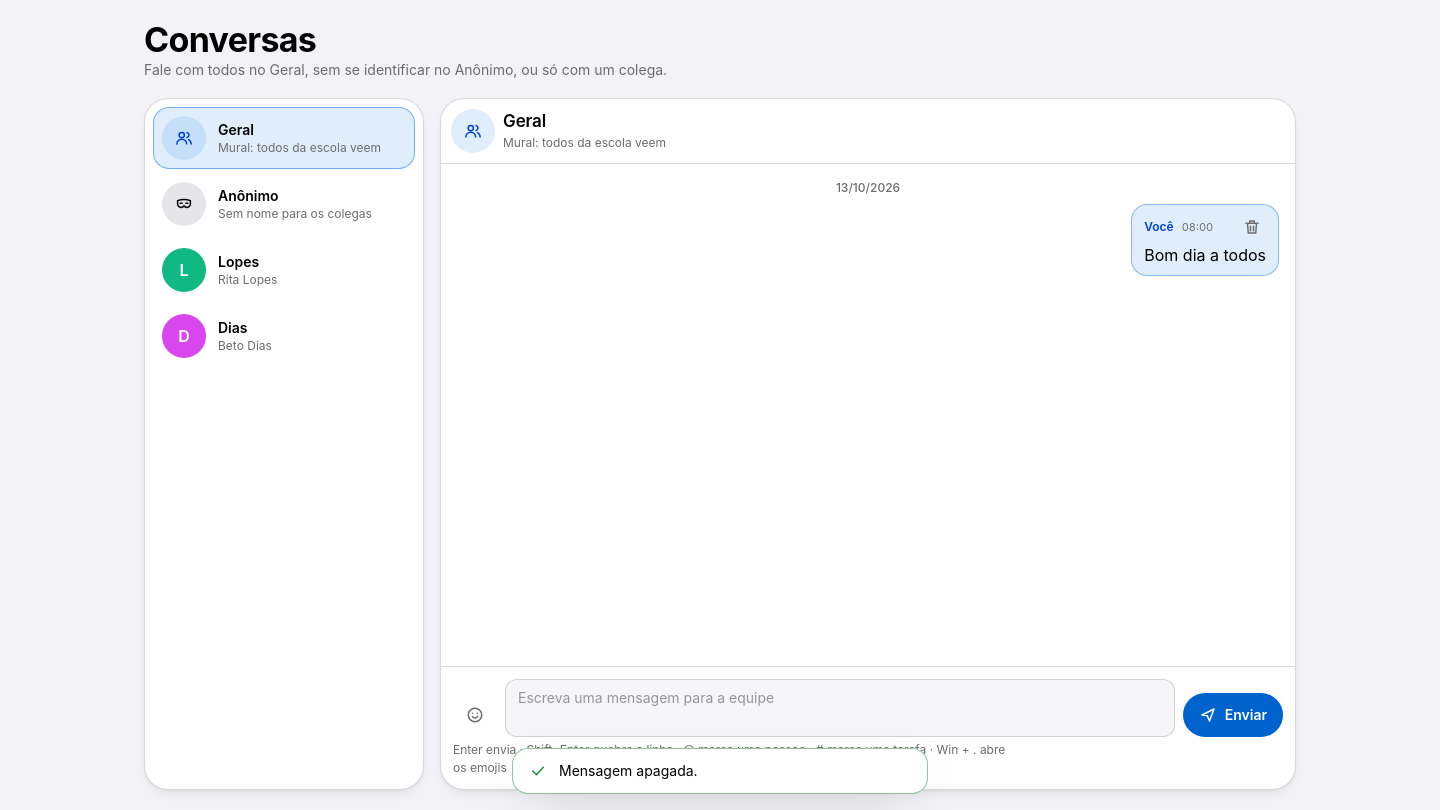
conversas: marcações, perfil e emojis (tela) › Esc fecha as sugestões sem apagar o texto
This screenshot has width=1440, height=810.
Expected: the navigation bar named "Conversas" is shown, [144,98,424,790]
Click the button "Anônimo Sem nome para os colegas" at [284, 204], box [153,173,415,235]
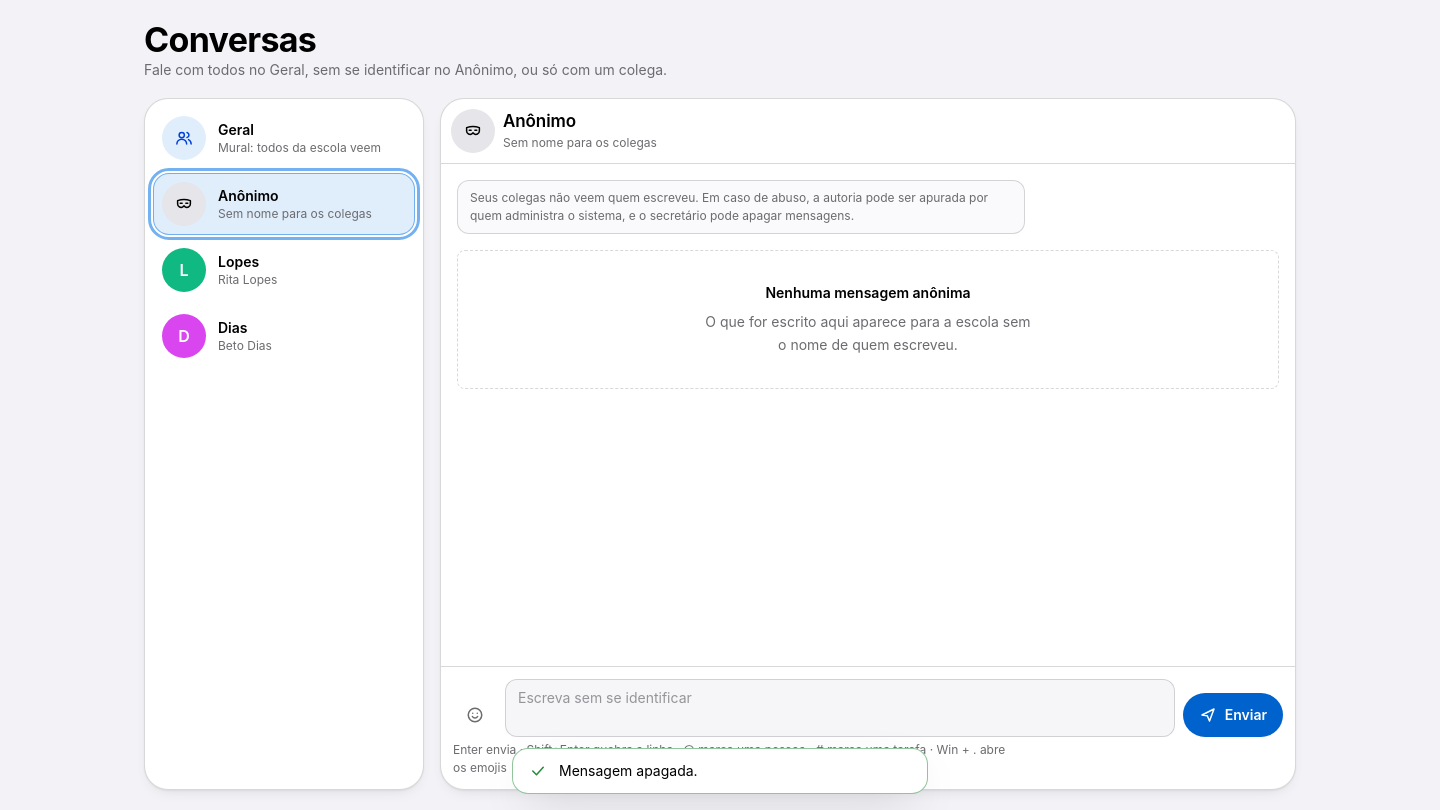
Type "@Di" into the text box named "Escrever mensagem" at [840, 708], box [505,679,1175,737]
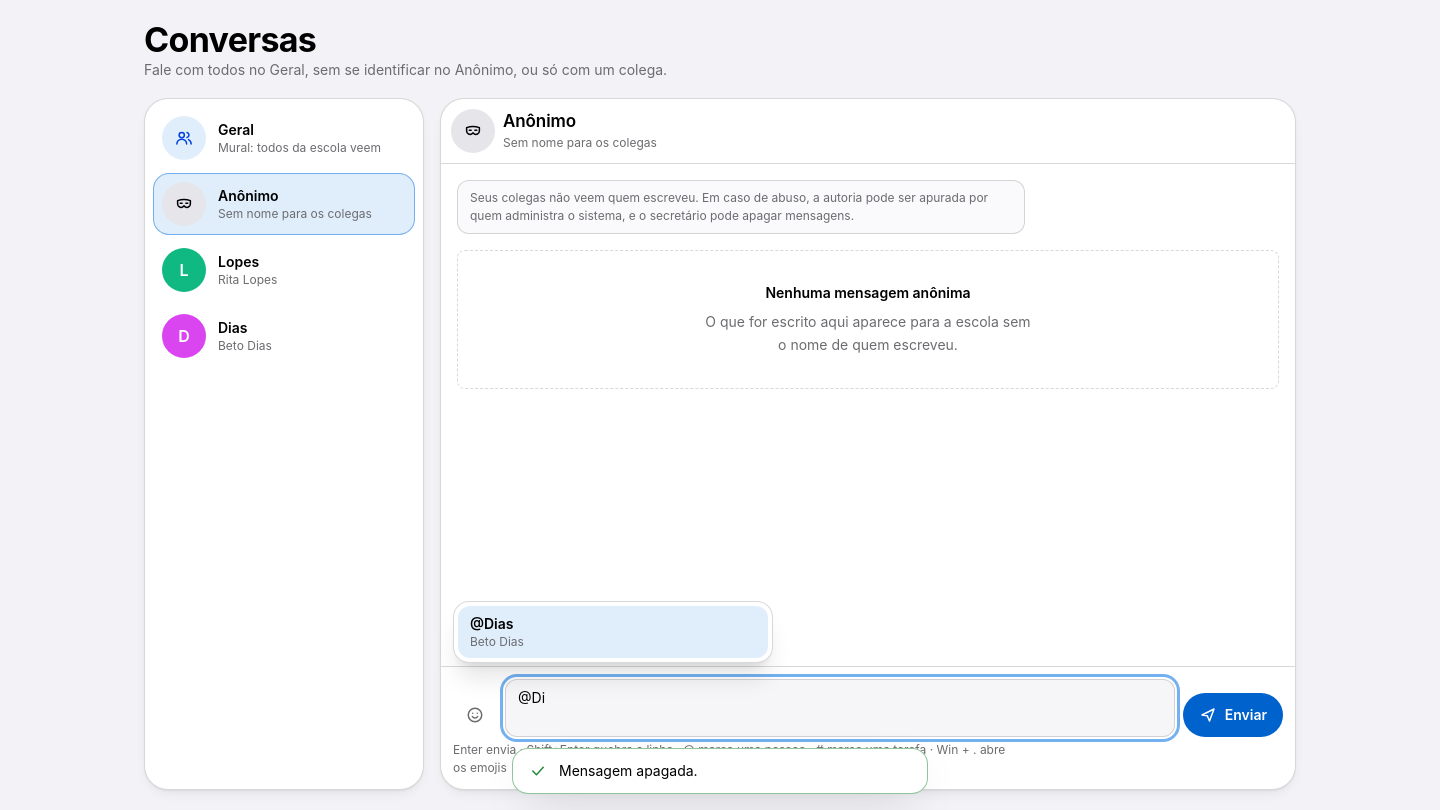
Result: the list "@Dias Beto Dias" is shown at [453,601,773,663]
Press Escape
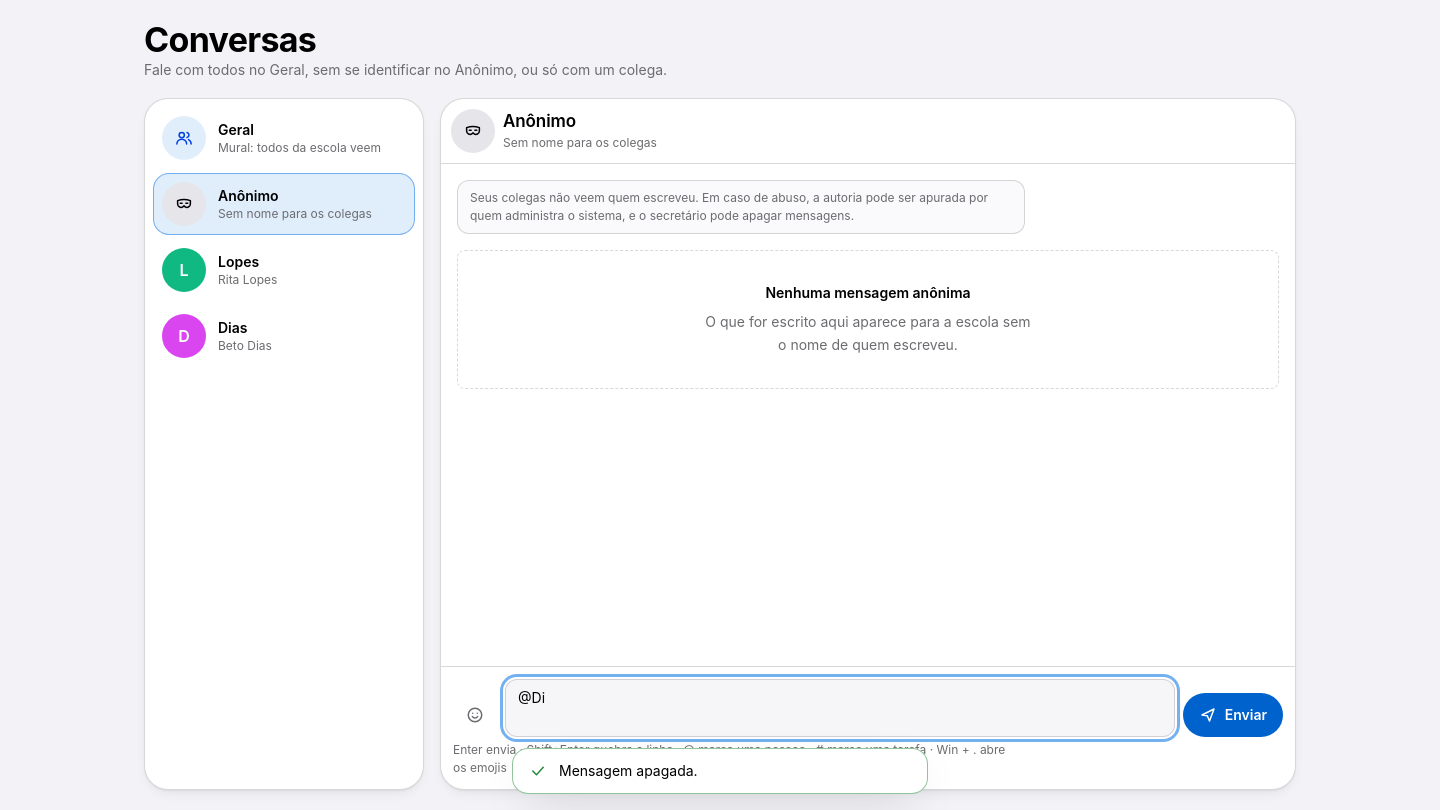
Result: the list "@Dias Beto Dias" is gone
